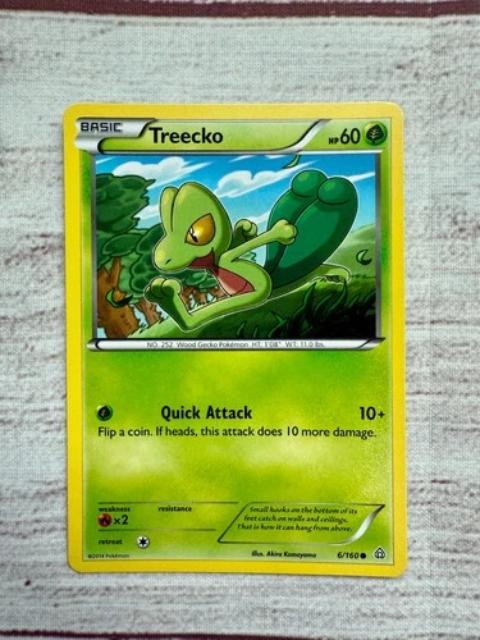Card: (59, 100, 412, 580)
Name: (143, 119, 228, 146)
